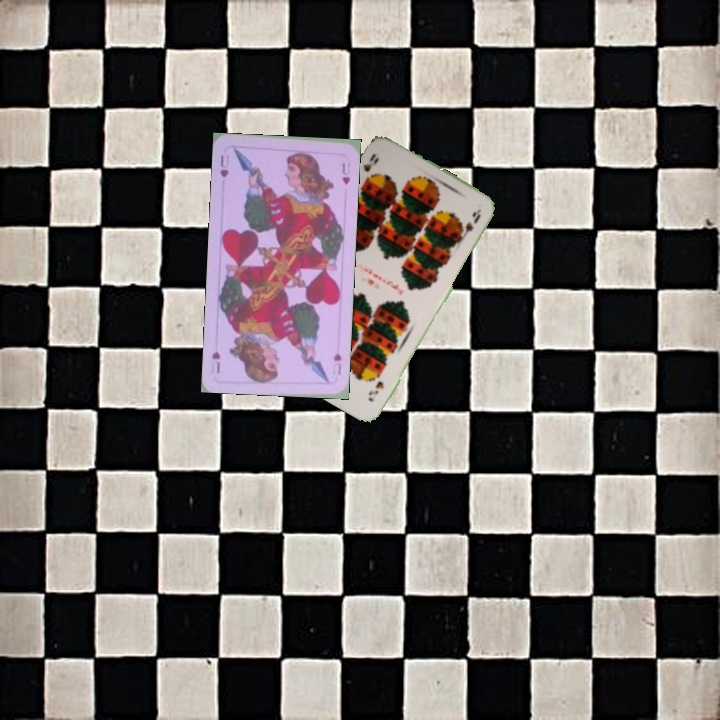HU: (216, 151, 231, 180), (329, 350, 344, 377)
S9: (359, 149, 381, 186), (364, 377, 386, 404)
